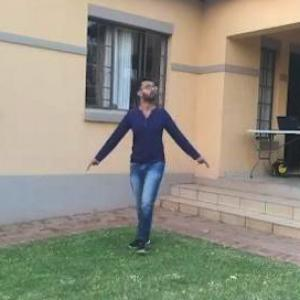land: (102, 85, 199, 237)
